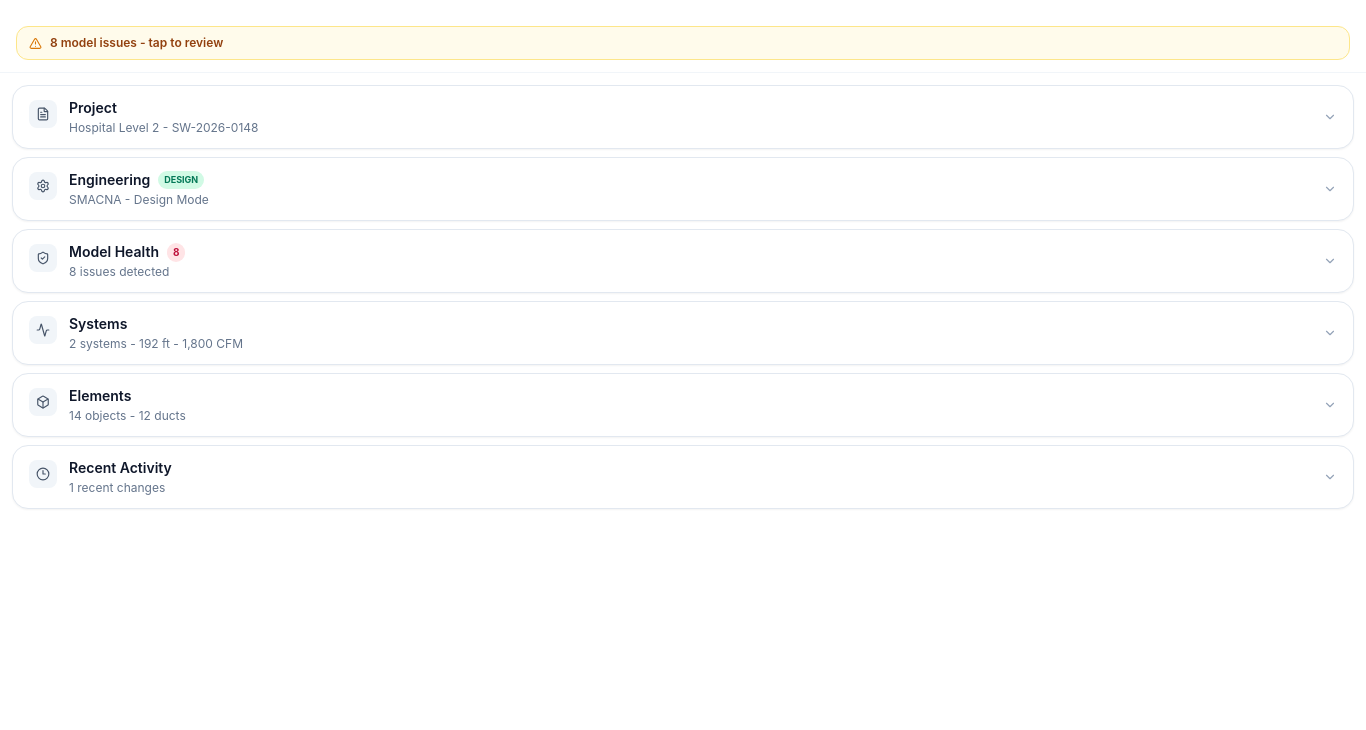
InspectorOverviewPanel › renders only passed systems and handles not-calculated values
The width and height of the screenshot is (1366, 730).
Click the button "Systems 2 systems - 192 ft - 1,800 CFM" at (98, 324), box [13,302,1353,364]
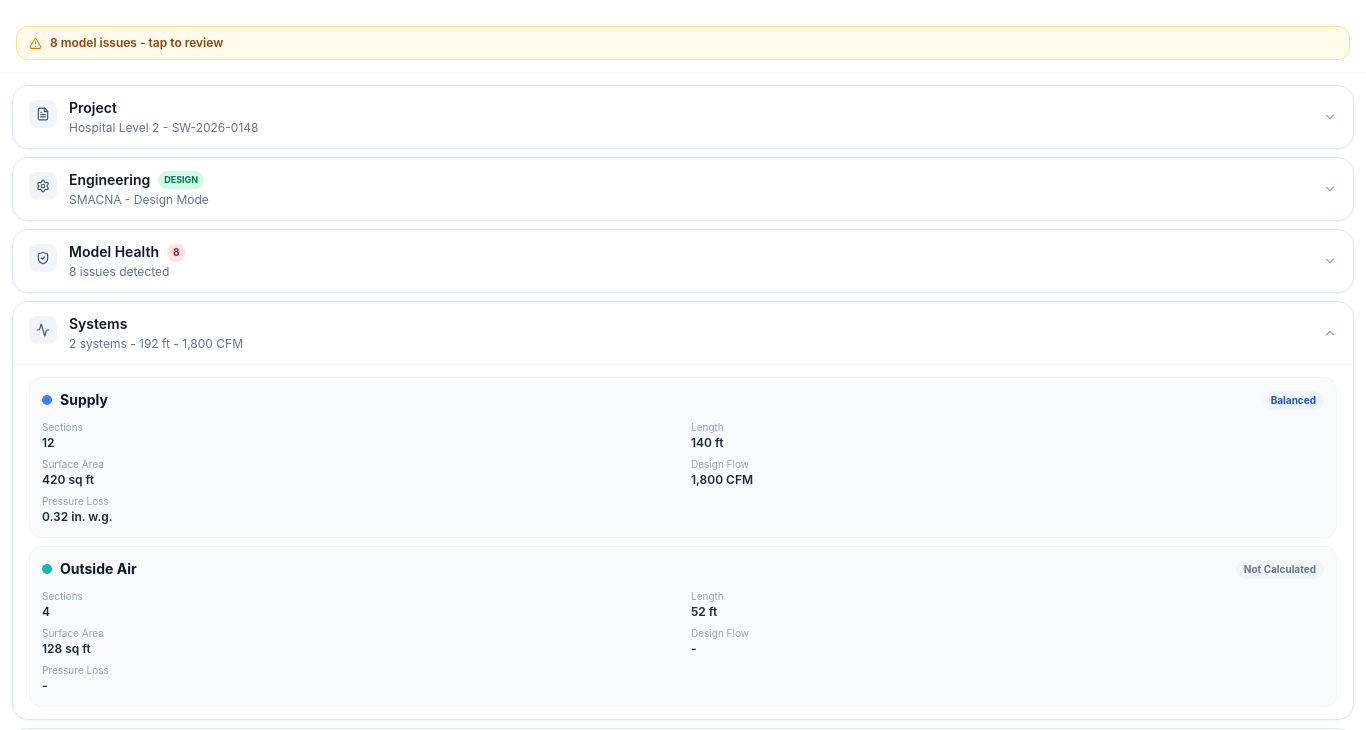
Expected: the text "Supply" is shown, [60,390,108,410]
Expected: the text "Outside Air" is shown, [60,559,137,579]
Expected: the text "Sections" below "Supply" is shown, [42,421,83,433]
